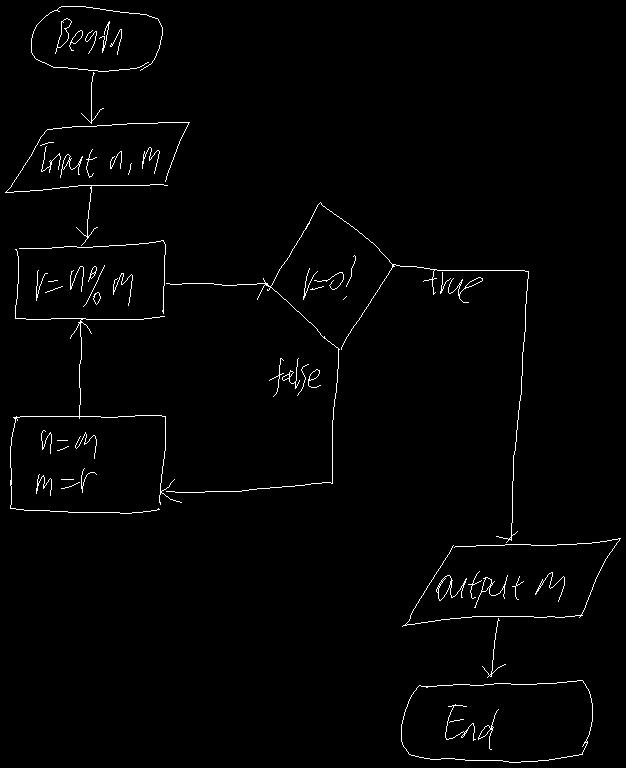arrow: (392, 264, 528, 542), (160, 348, 339, 502), (166, 278, 267, 299), (70, 318, 91, 418), (482, 618, 505, 677), (76, 185, 97, 245), (81, 72, 103, 123)
data: (402, 538, 620, 626), (5, 122, 189, 192)
decision: (266, 202, 394, 349)
process: (10, 415, 165, 513), (15, 240, 165, 319)
terminator: (401, 680, 592, 762), (31, 6, 162, 71)
text: (436, 571, 564, 607), (40, 142, 159, 177), (36, 265, 132, 306), (36, 430, 96, 495), (445, 704, 498, 749), (55, 18, 121, 54), (303, 255, 355, 299), (423, 269, 482, 302), (269, 358, 320, 396)
